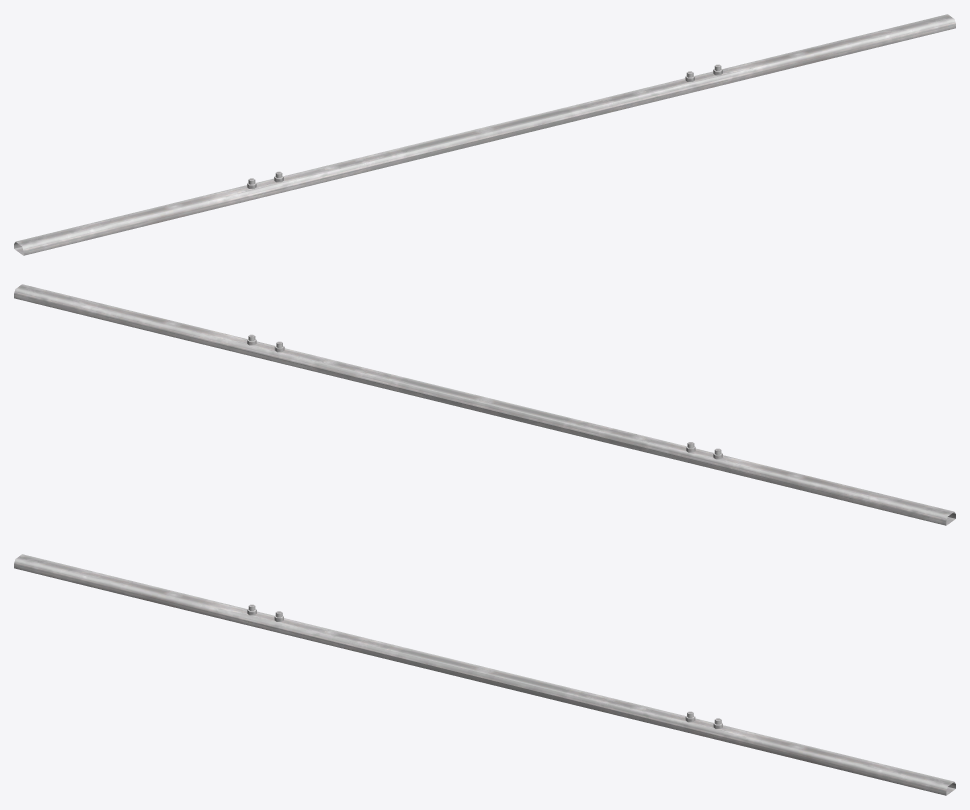
File: SM_Pipes_03p.glb
3 views of the same model, one above another, from view 1: azimuth 30°, elevation 25°; view 2: azimuth 150°, elevation 25°; view 3: azimuth 330°, elevation 25° (orthographic).
Visible parts, largest first — view 1: SM_Pipes_03p; view 2: SM_Pipes_03p; view 3: SM_Pipes_03p.
Part boxes in pixels (x1,y1,x2,y2): SM_Pipes_03p: (14,14,955,255); SM_Pipes_03p: (14,284,955,525); SM_Pipes_03p: (14,554,955,795).
Size of the model in its own units: 4 by 0.0645 by 0.0711.
1 material, 1 textured.
